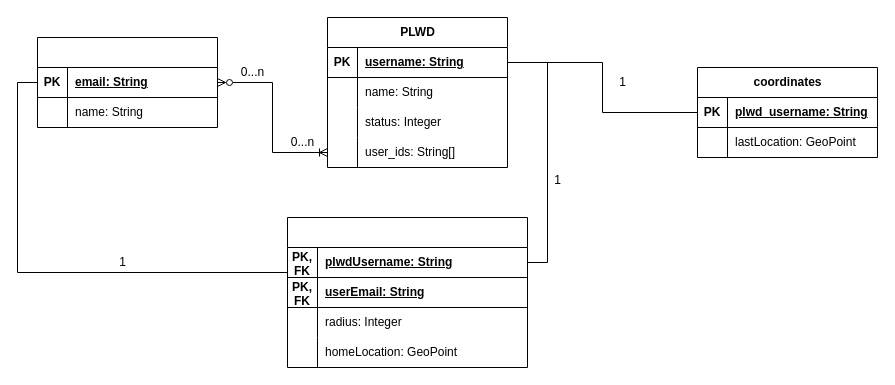
Image size: 895x385. Some labels were removed from this diagram. Here are the shapes that lost their labels. From the top down, the box of each, then its label:
(36, 36, 218, 128): user
(286, 216, 528, 368): safe-zone
